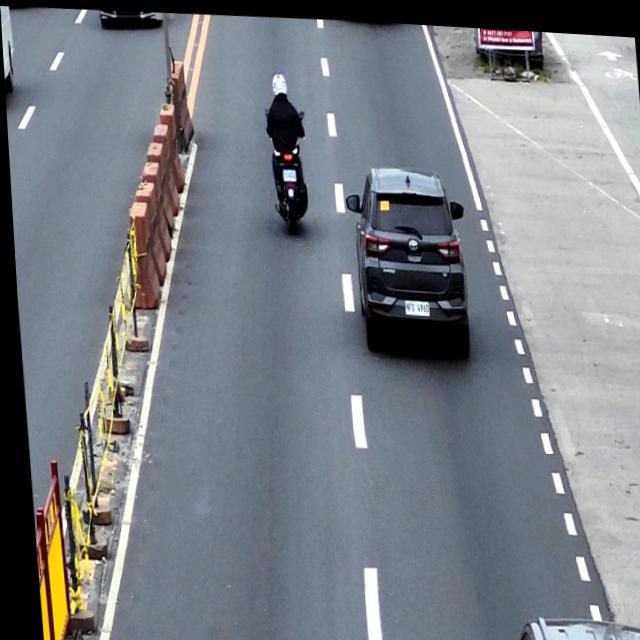Car: (341, 157, 471, 354)
License-Plate: (400, 293, 426, 311), (280, 164, 294, 178)
Motorcycle: (262, 102, 311, 231)
